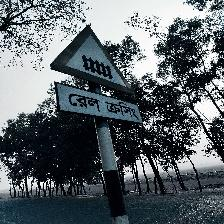Rail-crossing: (50, 24, 142, 126)
